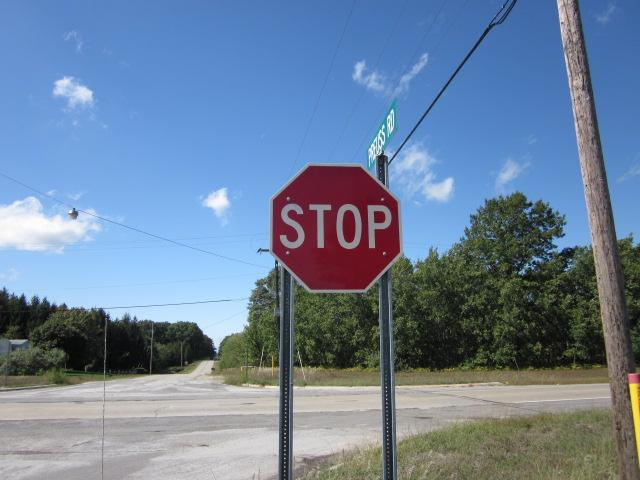stop: (264, 159, 411, 301)
